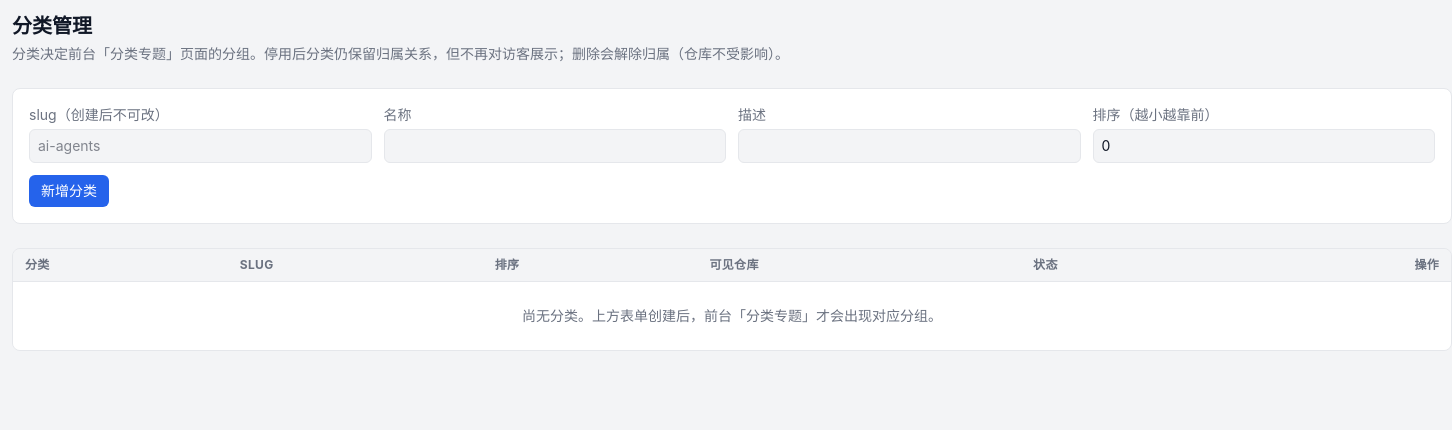
it: AdminCategoriesPage › surfaces backend validation errors without dropping the row
In the field with test id "category-slug": [200, 146] box [29,129,372,163], type "Bad Slug"
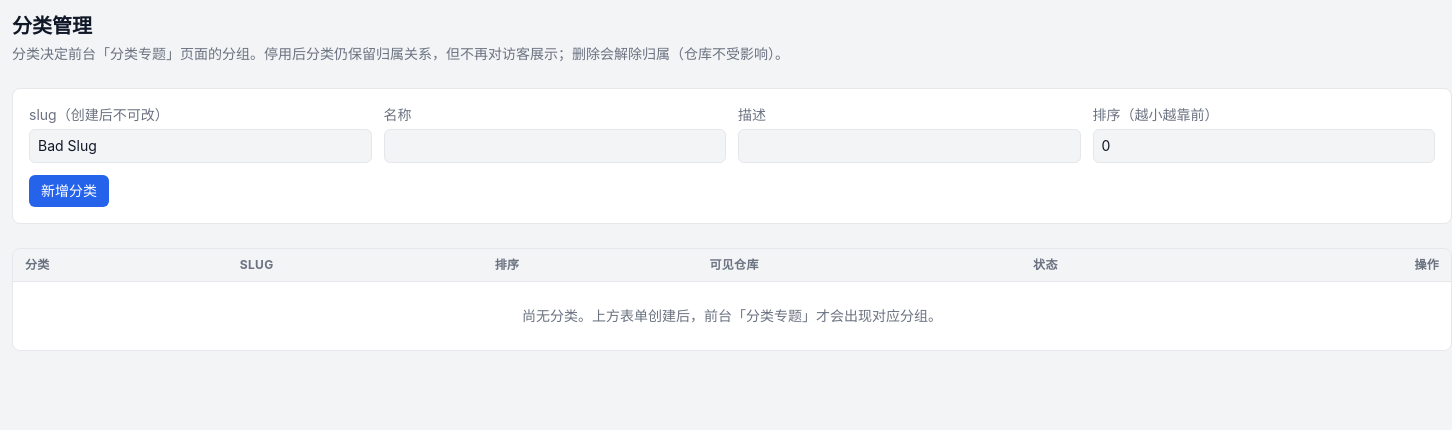
In the field with test id "category-title": [555, 146] box [384,129,726,163], type "X"
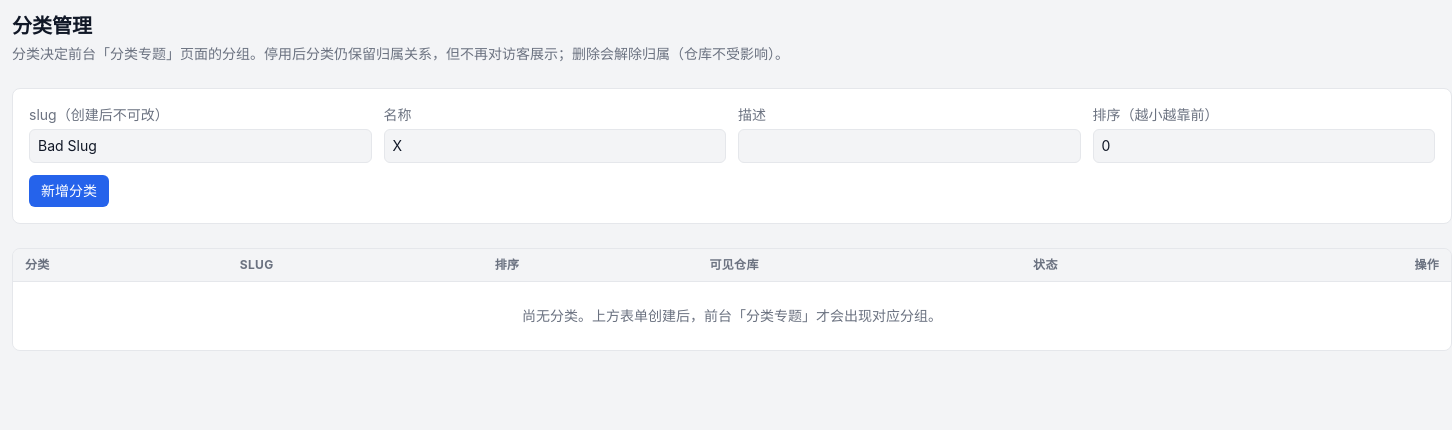
Submit the form with test id "category-form", box [12,88,1451,224]
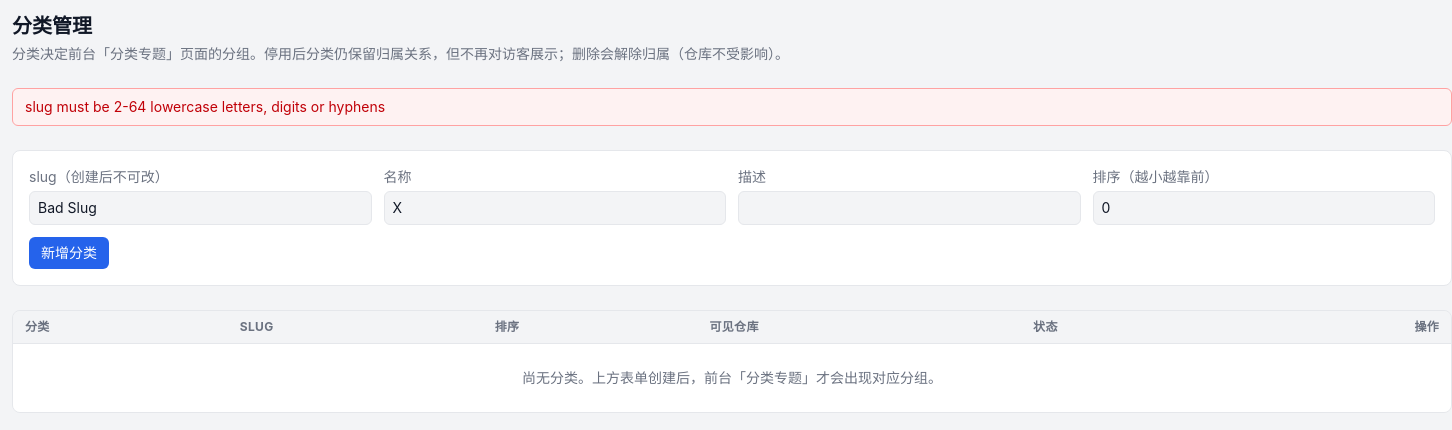
Now the text "slug must be 2-64 lowercase letters" is shown, box [25,98,385,115]
